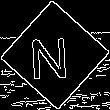N_N: (34, 29, 76, 81)
